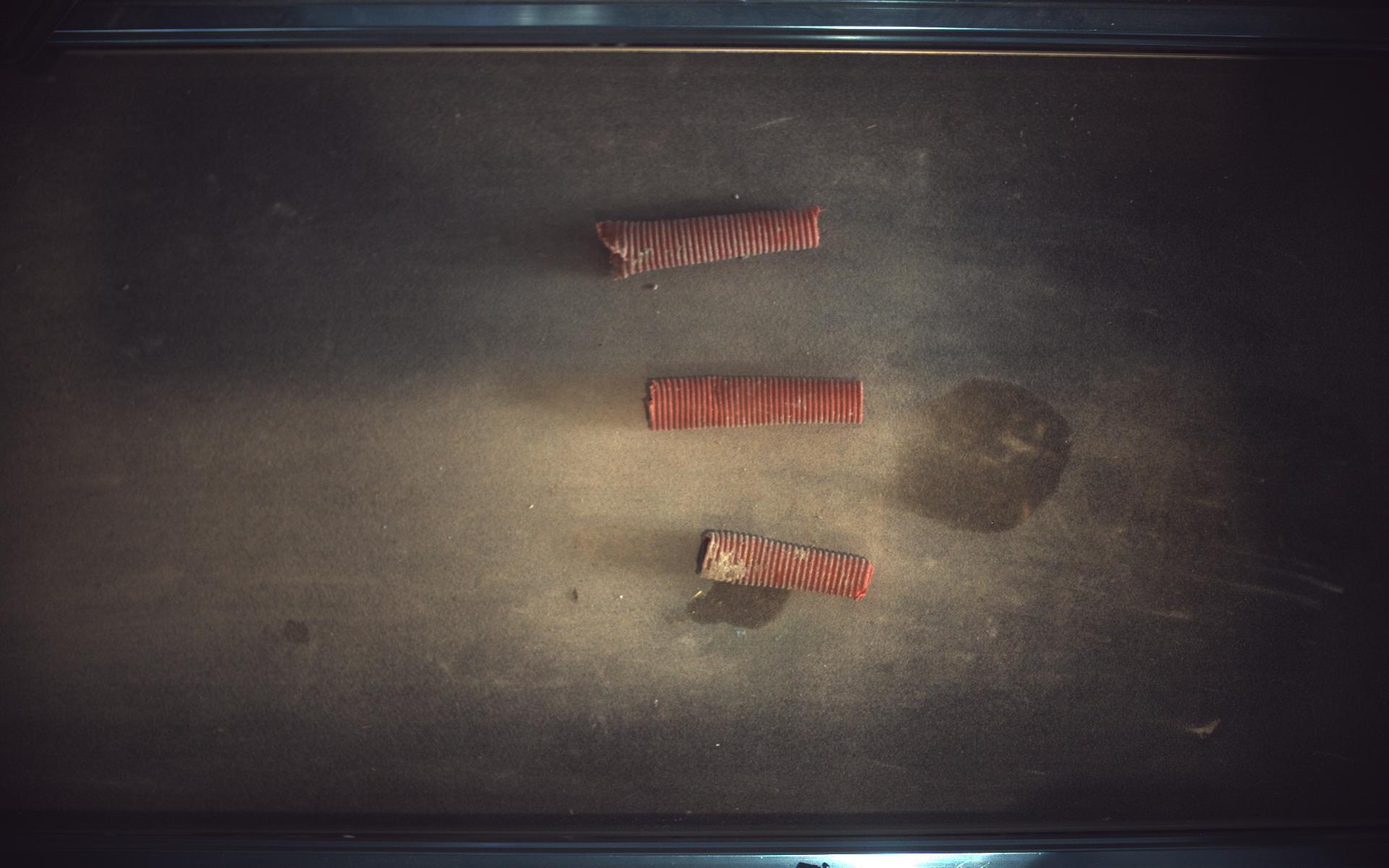pipes: (597, 205, 823, 278), (698, 530, 875, 600), (647, 375, 865, 430)
